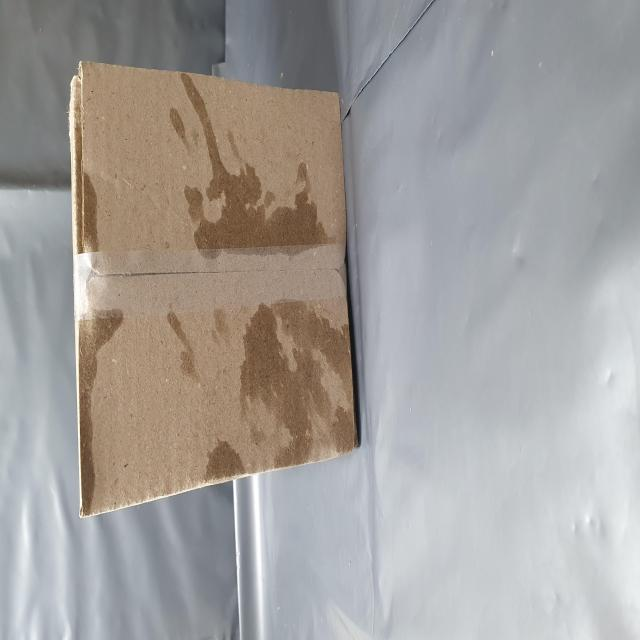wet: (88, 358, 188, 640), (216, 316, 322, 566), (74, 136, 178, 216)
